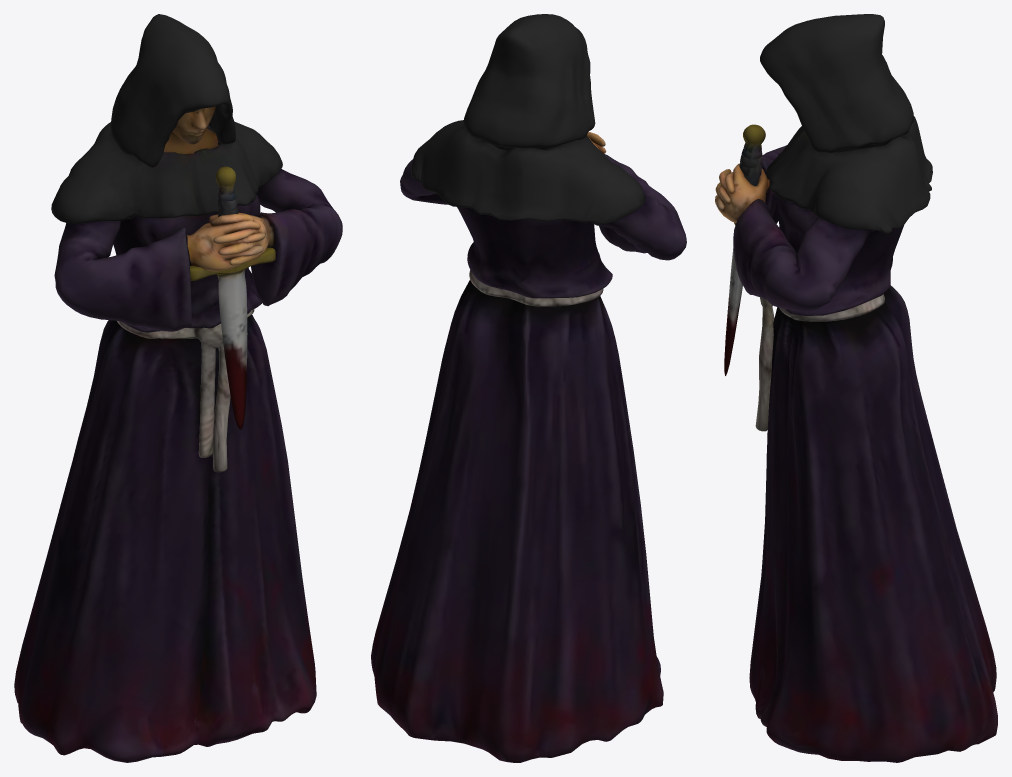
The model's file is MZ4250 - Cultist Female.glb.
3 renders of one model, left to right at view 1: azimuth 30°, elevation 25°; view 2: azimuth 150°, elevation 25°; view 3: azimuth 270°, elevation 25°, orthographic. The views are drawn at different scales.
Parts seen in each view (by area): view 1: Cultist Female.001; view 2: Cultist Female.001; view 3: Cultist Female.001.
Boxes of the visible parts, box(x1,y1,x2,y2) form: Cultist Female.001: box(14, 14, 342, 762); Cultist Female.001: box(371, 14, 686, 762); Cultist Female.001: box(715, 14, 997, 762).
Size of the model in its own units: 15.29 by 36.3 by 13.26.
1 material, 1 textured.
